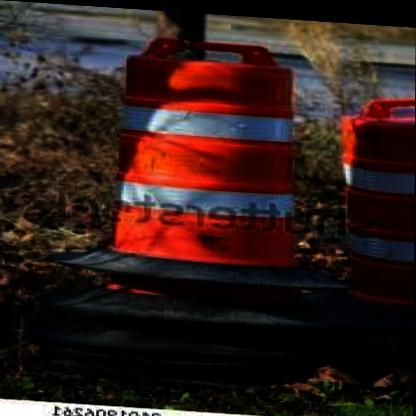obstacle: (109, 25, 300, 263), (348, 69, 413, 298)
